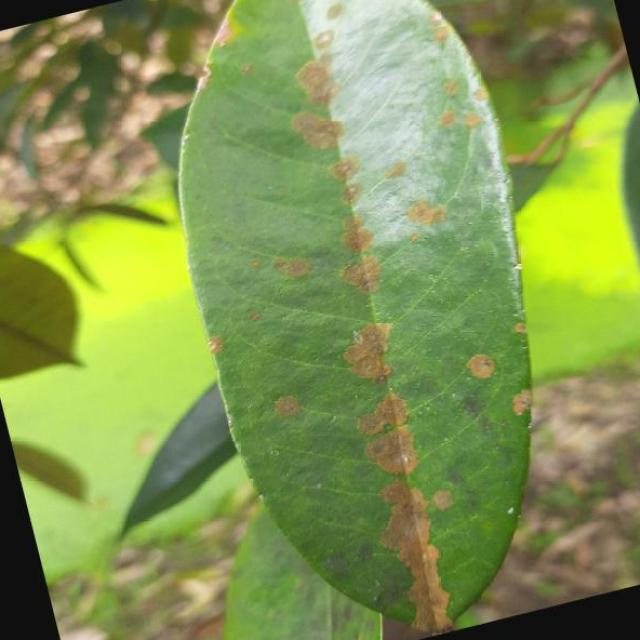Algal Leaf Spot: (112, 0, 626, 640)
